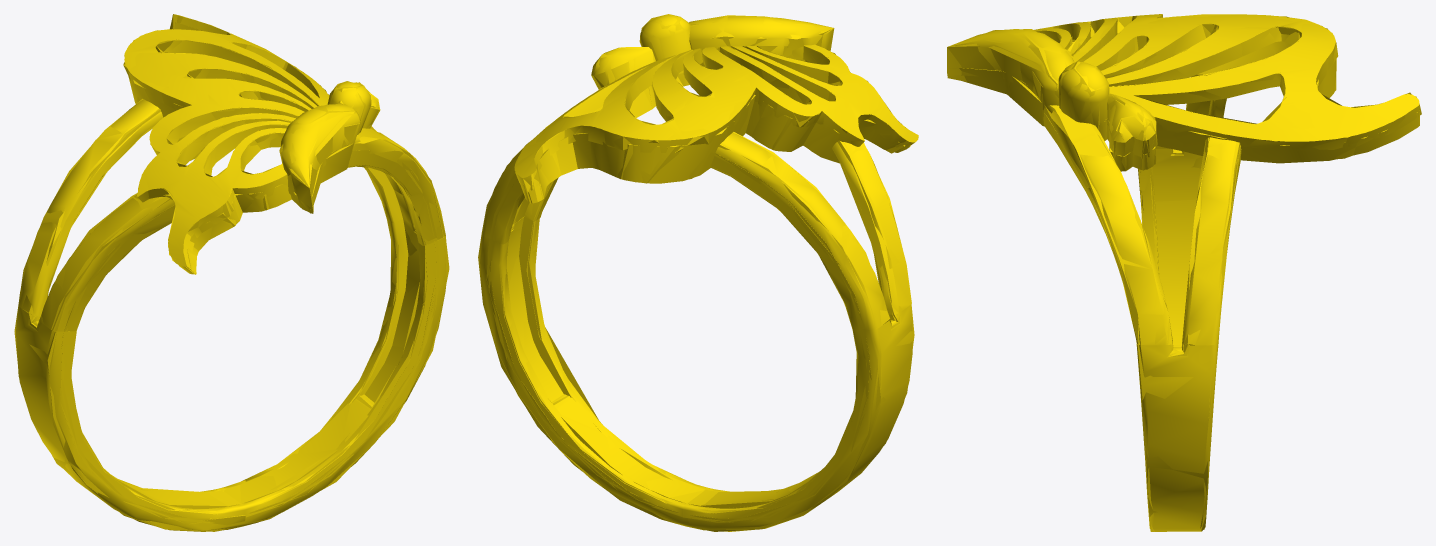
The model's file is GLR-D000705680.glb.
The picture shows the model from 3 angles, left to right: view 1: azimuth 30°, elevation 25°; view 2: azimuth 150°, elevation 25°; view 3: azimuth 270°, elevation 25°; orthographic projection. The views are drawn at different scales.
Parts seen in each view (by area): view 1: highPolyMesh, lowPolyMesh; view 2: highPolyMesh, lowPolyMesh; view 3: highPolyMesh, lowPolyMesh.
Part boxes in pixels (x1,y1,x2,y2): highPolyMesh: (16,14,446,531); lowPolyMesh: (14,14,449,531); highPolyMesh: (480,14,918,531); lowPolyMesh: (478,14,918,531); highPolyMesh: (947,14,1419,531); lowPolyMesh: (947,14,1421,531).
Size of the model in its own units: 0.0192 by 0.0205 by 0.0183.
